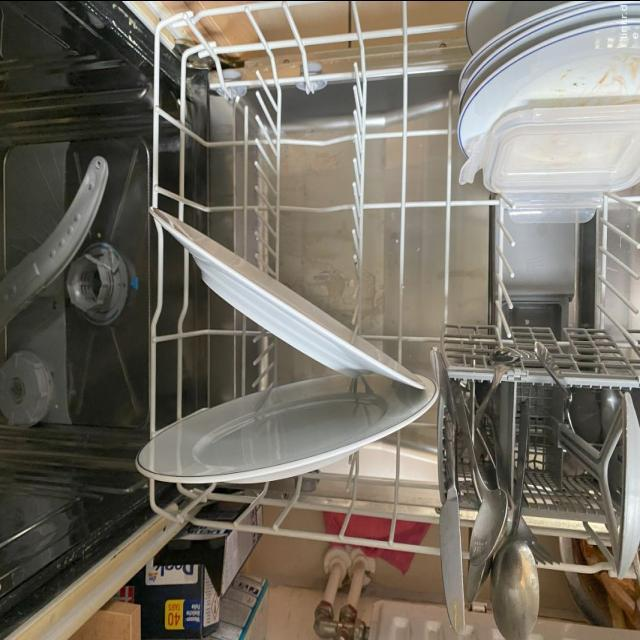clutery_bin: (445, 326, 633, 595)
empty_slot: (172, 23, 426, 249)
